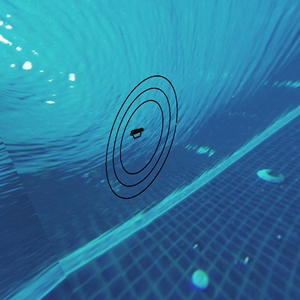circle: (101, 70, 187, 198)
submarine: (133, 128, 146, 140)
